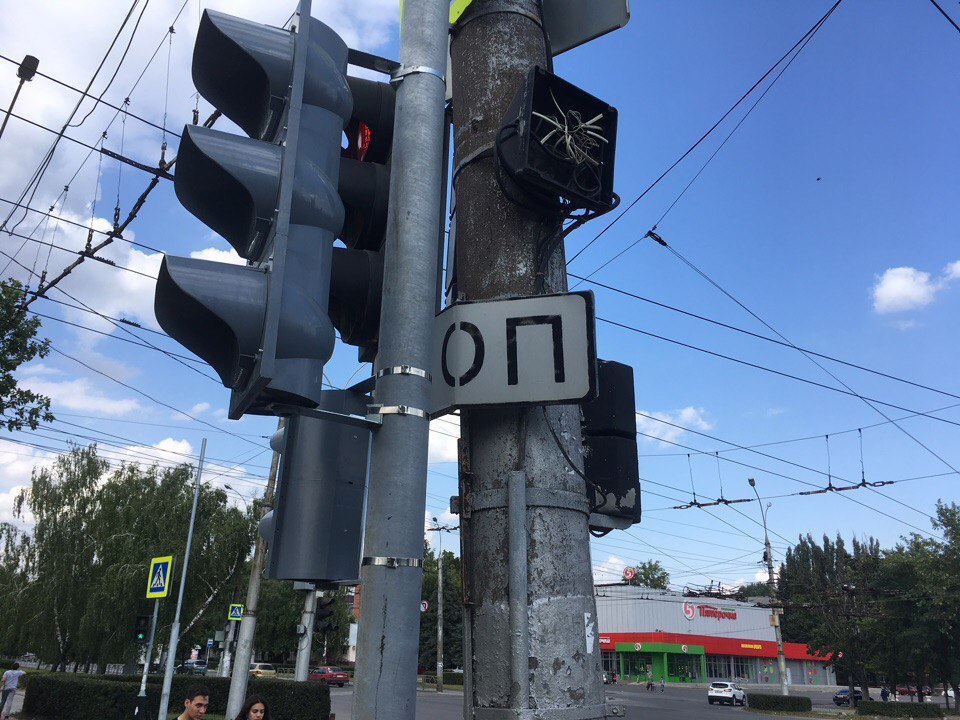tl: (154, 9, 336, 425), (312, 77, 417, 360)
